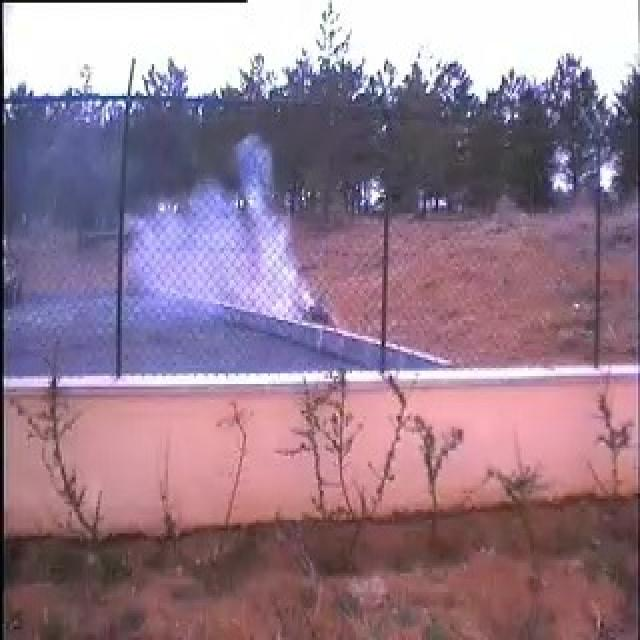smoke: (120, 137, 318, 317)
